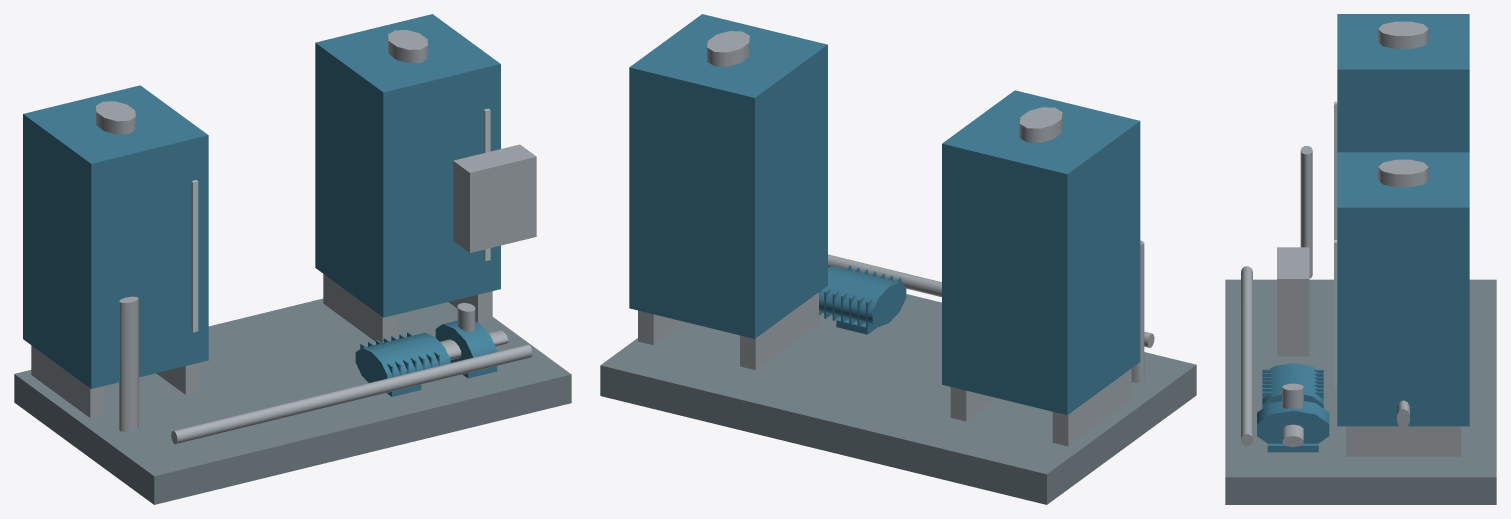
The picture shows the model from 3 angles, left to right: view 1: azimuth 30°, elevation 25°; view 2: azimuth 150°, elevation 25°; view 3: azimuth 270°, elevation 25°; orthographic projection. The views are drawn at different scales.
Parts seen in each view (by area): view 1: g0006, g2002, g2, g0004, g0, g3, g0002, g0003, g0001, g5, g5002, g3002 (+3 smaller); view 2: g2002, g2, g0006, g3, g0003, g0001, g0, g3002, g3001, g1, g1002, g0002; view 3: g2, g0006, g2002, g0004, g1002, g5, g0, g3, g0002, g3001, g3002, g5001 (+5 smaller).
Part boxes in pixels (left/top/right/bottom): g0006: left=14, top=298, right=571, bottom=504; g2002: left=23, top=85, right=208, bottom=388; g2: left=315, top=14, right=500, bottom=317; g0004: left=453, top=144, right=536, bottom=252; g0: left=171, top=344, right=532, bottom=444; g3: left=355, top=333, right=450, bottom=382; g0002: left=119, top=296, right=138, bottom=431; g0003: left=31, top=345, right=104, bottom=418; g0001: left=323, top=274, right=397, bottom=342; g5: left=435, top=320, right=497, bottom=362; g5002: left=191, top=180, right=198, bottom=332; g3002: left=95, top=101, right=135, bottom=134; g2002: left=942, top=90, right=1140, bottom=415; g2: left=629, top=14, right=827, bottom=338; g0006: left=600, top=294, right=1196, bottom=504; g3: left=819, top=266, right=906, bottom=326; g0003: left=1052, top=368, right=1131, bottom=446; g0001: left=740, top=292, right=818, bottom=369; g0: left=828, top=254, right=1154, bottom=347; g3002: left=1019, top=107, right=1062, bottom=142; g3001: left=707, top=31, right=749, bottom=66; g1: left=950, top=387, right=997, bottom=421; g1002: left=638, top=310, right=684, bottom=345; g0002: left=1131, top=240, right=1144, bottom=382; g2: left=1337, top=152, right=1469, bottom=426; g0006: left=1225, top=279, right=1496, bottom=504; g2002: left=1337, top=14, right=1469, bottom=152; g0004: left=1277, top=247, right=1309, bottom=356; g1002: left=1346, top=426, right=1460, bottom=456; g5: left=1257, top=401, right=1329, bottom=443; g0: left=1241, top=266, right=1252, bottom=445; g3: left=1262, top=363, right=1323, bottom=408; g0002: left=1300, top=146, right=1312, bottom=278; g3001: left=1378, top=159, right=1428, bottom=187; g3002: left=1378, top=21, right=1428, bottom=48; g5001: left=1334, top=240, right=1337, bottom=387.
Bounding box in the file's own units: 3 × 2.16 × 1.7.
